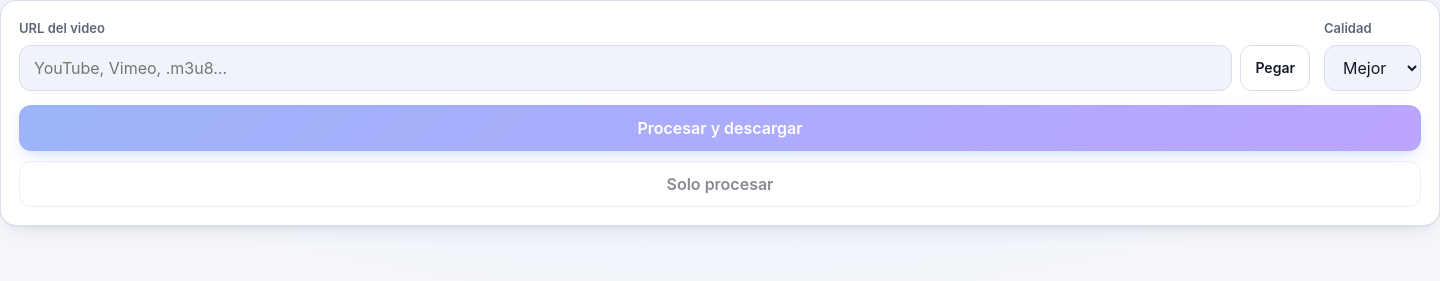
Test: JobForm › deshabilita el botón y muestra error accesible con una URL inválida
Type "no-es-url" into the field labelled "URL del video" at (626, 68), box x1=19 y1=44 x2=1232 y2=90
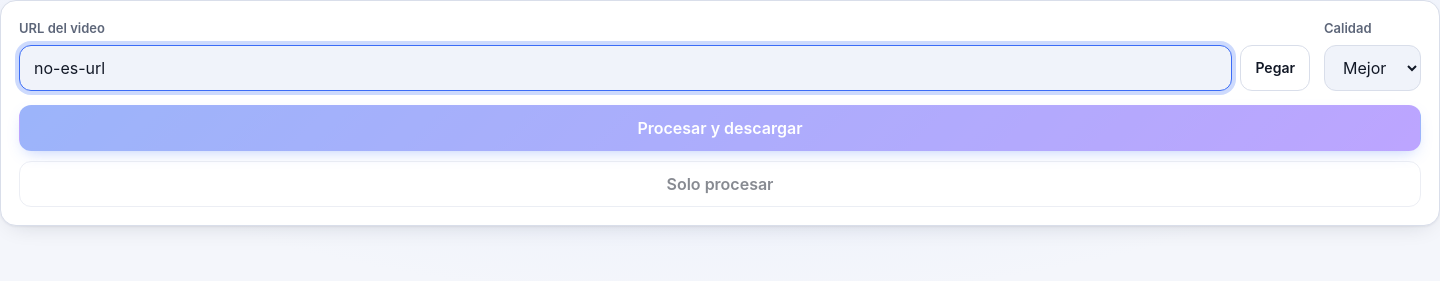
Press Tab
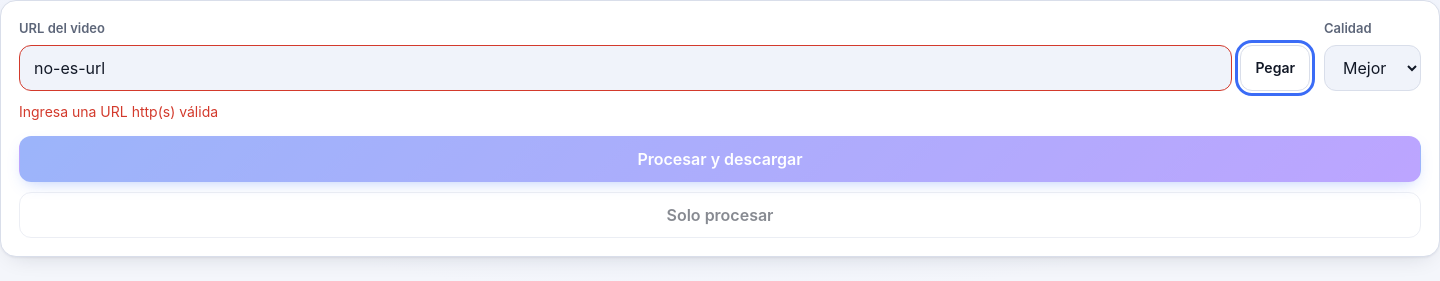
Expected: the button "Procesar y descargar" is disabled, x1=19 y1=136 x2=1421 y2=182
Expected: the message shows "URL http(s) válida", x1=19 y1=102 x2=218 y2=120
